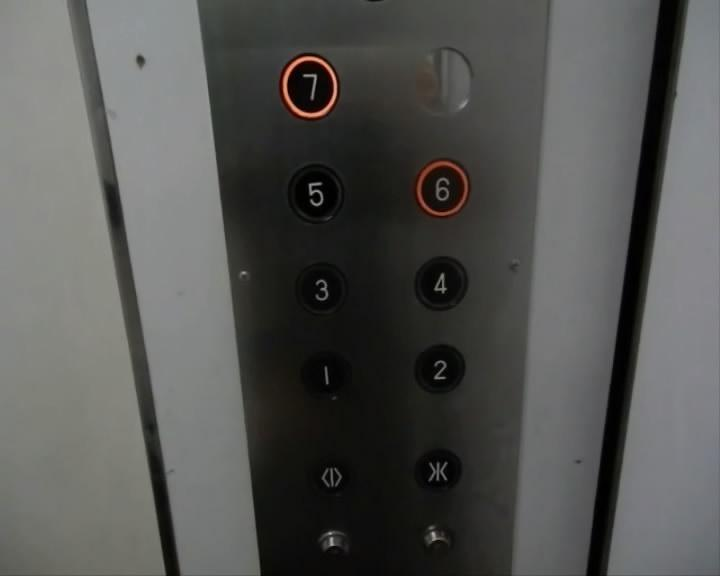1: (296, 342, 352, 401)
2: (410, 337, 466, 396)
3: (290, 256, 349, 317)
4: (409, 251, 468, 312)
5: (281, 158, 347, 224)
6: (407, 153, 473, 219)
7: (275, 49, 342, 122)
close: (411, 443, 462, 494)
open: (305, 449, 356, 500)
unknown: (408, 42, 475, 115), (311, 523, 354, 565), (413, 520, 456, 562)
